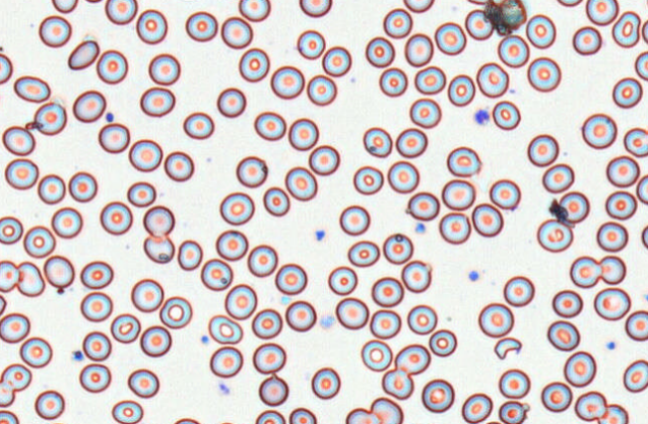PLT: (473, 107, 492, 125), (70, 349, 85, 364), (102, 110, 116, 124), (315, 229, 327, 243), (416, 222, 428, 235), (467, 271, 478, 284), (200, 335, 211, 347), (605, 341, 617, 352)
RBC: (482, 0, 526, 36), (581, 112, 617, 149), (477, 302, 514, 337), (526, 56, 561, 92), (536, 218, 573, 252), (475, 61, 509, 98), (593, 287, 631, 320), (563, 350, 596, 387), (224, 283, 257, 320), (99, 200, 133, 235), (219, 191, 254, 225), (335, 296, 369, 330), (130, 278, 164, 312), (33, 101, 67, 135), (128, 138, 162, 172), (270, 65, 304, 99), (421, 378, 454, 413), (284, 166, 317, 201), (394, 343, 430, 375), (611, 10, 641, 48), (200, 257, 233, 291), (159, 295, 192, 329), (209, 345, 243, 378), (526, 133, 559, 167), (72, 89, 106, 122), (4, 157, 38, 190), (471, 202, 503, 237), (96, 49, 128, 84), (446, 145, 481, 177), (605, 155, 640, 187), (135, 9, 167, 44), (139, 86, 175, 117), (525, 13, 556, 49), (438, 211, 471, 244), (235, 155, 268, 188), (274, 262, 307, 295), (38, 14, 71, 47), (220, 16, 253, 49), (441, 178, 475, 210), (252, 342, 286, 374), (497, 34, 529, 68), (434, 21, 466, 55), (66, 39, 100, 71), (43, 254, 74, 289), (238, 47, 269, 82), (207, 314, 243, 344), (13, 74, 50, 103), (381, 368, 414, 400), (569, 255, 601, 288), (558, 190, 590, 223), (488, 178, 521, 210), (19, 336, 52, 368), (50, 206, 83, 238), (387, 160, 419, 193), (215, 229, 248, 261), (23, 225, 55, 258), (148, 52, 180, 85), (400, 259, 431, 293), (546, 320, 580, 351), (360, 339, 392, 371), (142, 205, 174, 237), (284, 300, 316, 332), (139, 325, 171, 357), (611, 76, 643, 108), (574, 390, 607, 421), (371, 276, 404, 307), (2, 125, 35, 156), (97, 122, 130, 153), (247, 244, 278, 277), (288, 117, 319, 150), (185, 11, 218, 42), (406, 191, 440, 221), (16, 261, 45, 296), (404, 32, 433, 67), (498, 368, 530, 399), (540, 381, 572, 412), (369, 308, 401, 339), (308, 144, 340, 175), (382, 232, 413, 264), (80, 291, 112, 322), (596, 221, 628, 252), (409, 97, 441, 128), (395, 127, 427, 158), (306, 74, 337, 106), (310, 366, 340, 399), (541, 163, 574, 193), (604, 190, 637, 220), (253, 111, 286, 141), (79, 260, 113, 289), (406, 304, 437, 335), (461, 392, 492, 423), (503, 275, 534, 306), (251, 308, 282, 339), (163, 150, 194, 181), (339, 204, 370, 235), (364, 36, 395, 67), (464, 8, 494, 40), (258, 374, 288, 406), (414, 65, 446, 95), (79, 363, 111, 393), (321, 45, 351, 77), (127, 368, 159, 398), (216, 86, 246, 118), (0, 312, 30, 343), (352, 165, 383, 195), (34, 389, 65, 419), (362, 126, 392, 157), (382, 7, 412, 38), (551, 289, 583, 318), (68, 170, 97, 202), (347, 239, 380, 267), (447, 73, 475, 106), (327, 265, 357, 295), (110, 313, 140, 343), (572, 25, 602, 55), (143, 234, 174, 263), (82, 330, 111, 361), (0, 363, 32, 391), (182, 111, 214, 139), (622, 359, 648, 393), (296, 29, 325, 59), (378, 67, 407, 97), (491, 100, 520, 130), (37, 173, 65, 204), (370, 397, 403, 423), (428, 328, 457, 357), (262, 186, 290, 216), (104, 0, 137, 25), (585, 0, 618, 25), (599, 255, 626, 285), (177, 239, 203, 270), (111, 399, 143, 424), (126, 181, 156, 207), (623, 126, 648, 157), (624, 309, 648, 341), (238, 0, 270, 22), (498, 400, 528, 423), (0, 215, 23, 244), (597, 403, 628, 424), (0, 259, 19, 292), (298, 0, 332, 17), (345, 407, 379, 423), (288, 407, 316, 423), (254, 409, 285, 423), (634, 50, 648, 81), (0, 51, 13, 84), (402, 0, 434, 13), (0, 381, 15, 407), (636, 173, 648, 204), (51, 0, 78, 13), (0, 409, 19, 423), (172, 417, 201, 424), (641, 17, 648, 44), (556, 0, 583, 7), (641, 223, 648, 250), (0, 293, 7, 315), (465, 0, 492, 5), (482, 420, 504, 424), (216, 421, 239, 424), (84, 0, 103, 3), (645, 0, 648, 12)
Schistocyte: (494, 338, 522, 360)
